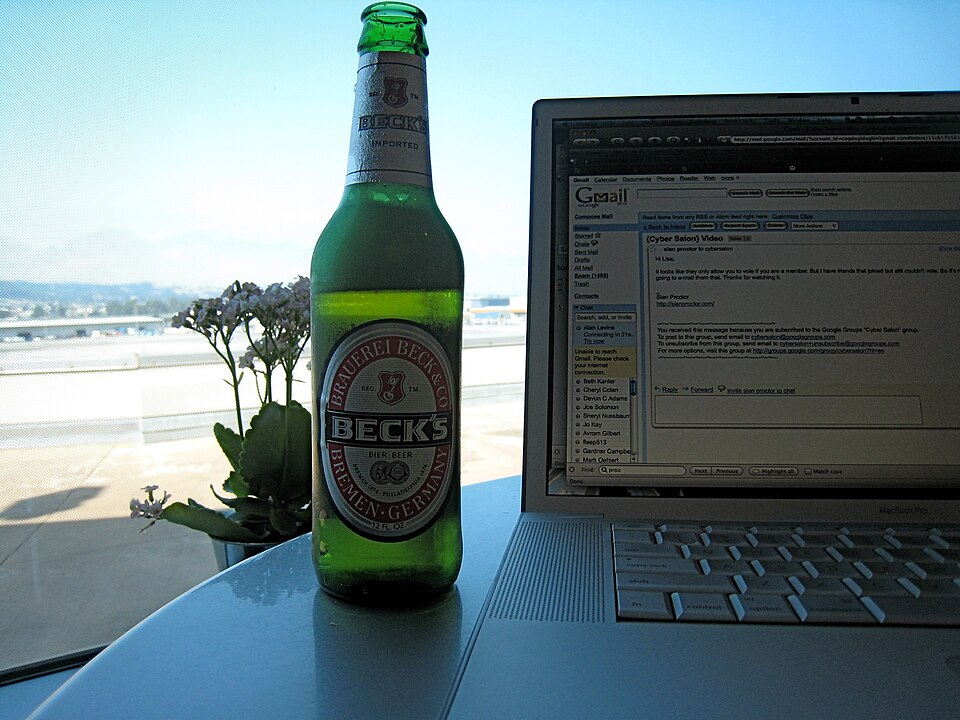beer-bottle: (301, 2, 475, 614)
